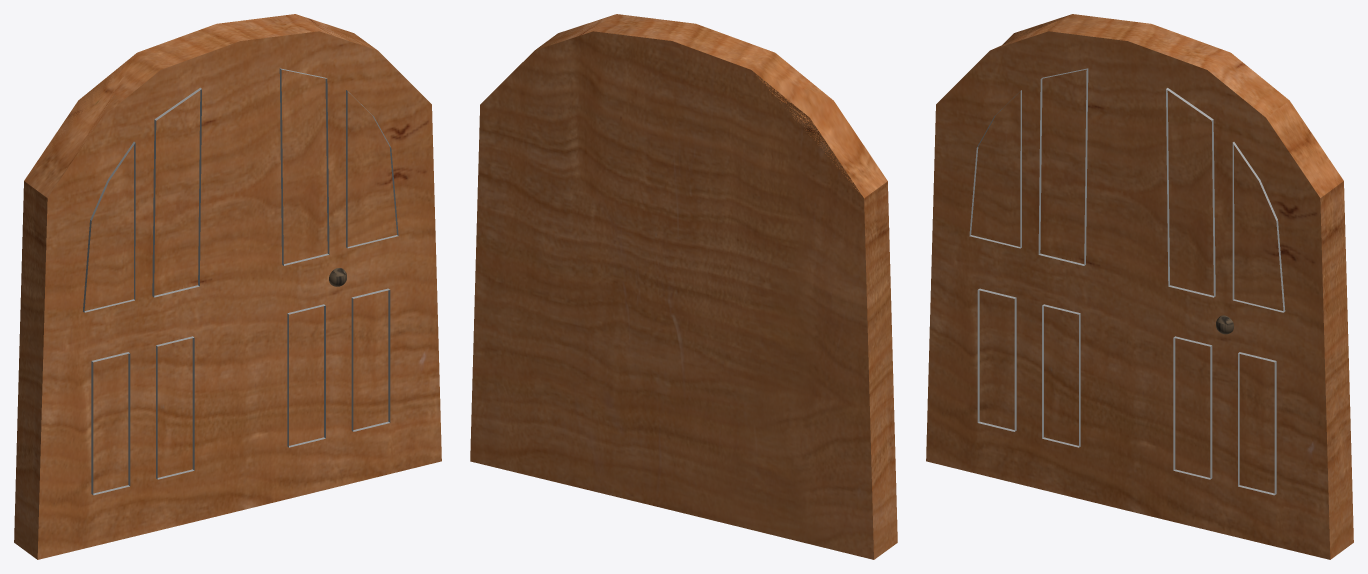
The model's file is Door.fbx.
3 views of the same model, side by side, from view 1: azimuth 30°, elevation 25°; view 2: azimuth 150°, elevation 25°; view 3: azimuth 330°, elevation 25° (orthographic).
Parts seen in each view (by area): view 1: Door2; view 2: Door2; view 3: Door2.
Boxes of the visible parts, x1,y1,x2,y2 form: Door2: (14,14,441,559); Door2: (470,14,897,559); Door2: (926,14,1353,559).
Size of the model in its own units: 1.61 by 1.79 by 0.1975.
3 materials, 2 textured.
